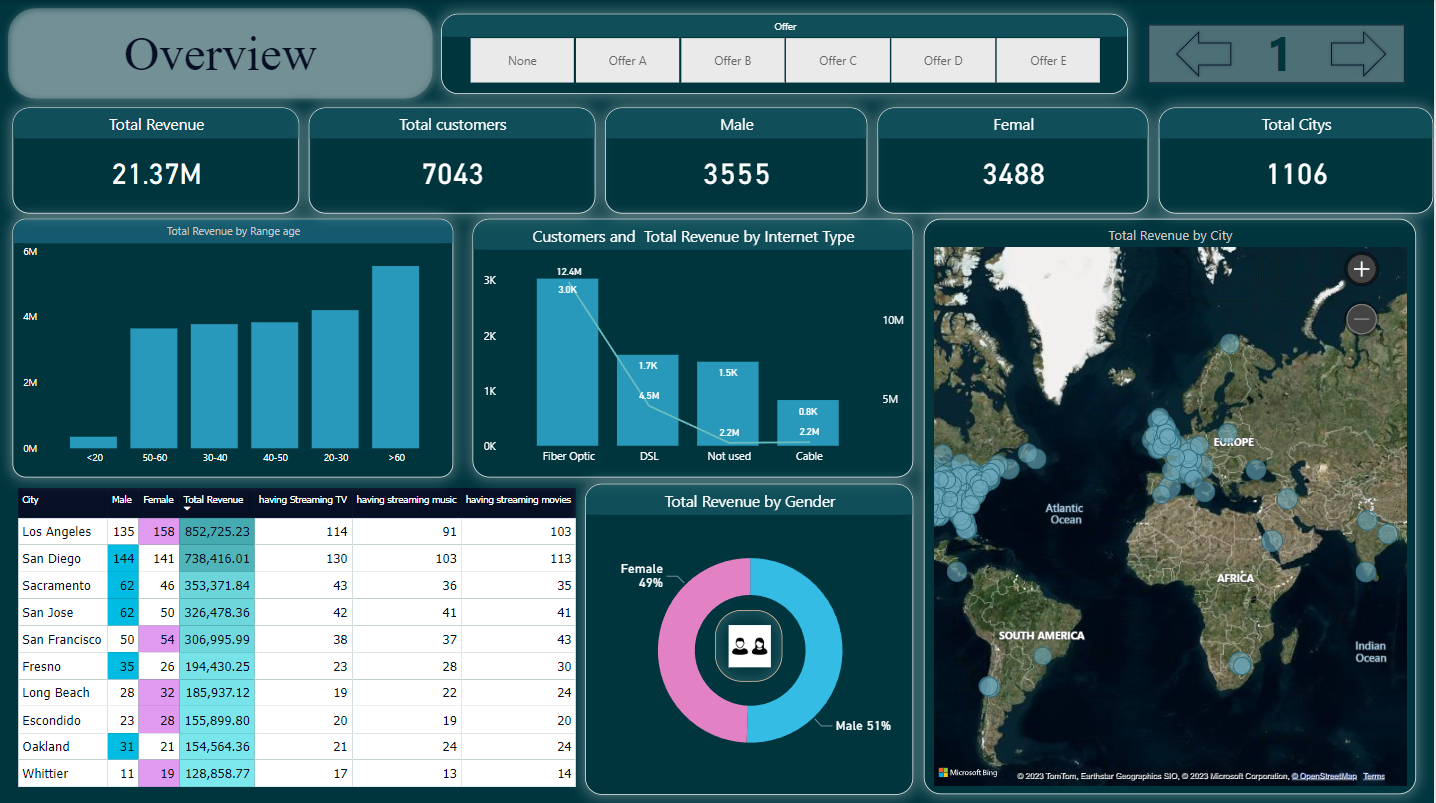

What the dashboard file says about the page in this screenshot:
{"tool":"powerbi","page":{"name":"Overview","canvas":[1600,900],"ordinal":1},"visuals":[{"type":"shape","box":[1269.9,15.4,310.1,89.4],"z":0},{"type":"textbox","box":[1379.2,16.6,103.1,95.9],"z":1000},{"type":"shape","box":[1482.3,31.2,69.7,59.6],"z":2000},{"type":"shape","box":[1309.4,31.2,69.7,59.6],"z":3000},{"type":"shape","box":[0,0,492.4,119.1],"z":4000},{"type":"tableEx","fields":{"Values":["customer_churn.City","Measure.Male","Measure.Female","Measure.Total Revenue","Measure.having Streaming TV","Measure.having streaming music","Measure.having streaming movies"]},"box":[13.7,539.7,638.6,347.5],"z":8001},{"type":"columnChart","title":"Total Revenue by Range age","fields":{"Category":["customer_churn.Range ave"],"Y":["Sum(customer_churn.Total Revenue)"]},"box":[13.7,244.5,491.7,288.4],"z":8002},{"type":"map","title":"Total Revenue by City","fields":{"Category":["customer_churn.City"],"Size":["Measure.Total Revenue"]},"box":[1031.4,244.5,549.4,642.7],"z":8003},{"type":"donutChart","title":"Total Revenue by Gender","fields":{"Category":["customer_churn.Gender"],"Y":["Sum(customer_churn.Total Revenue)"]},"box":[652.4,539.7,366.7,347.5],"z":8004},{"type":"lineClusteredColumnComboChart","title":"Customers and  Total Revenue by Internet Type","fields":{"Category":["customer_churn.Internet Type"],"Y":["Count(customer_churn.Customer ID)"],"Y2":["Sum(customer_churn.Total Revenue)"]},"box":[527.4,244.5,491.7,288.4],"z":8005},{"type":"image","box":[797.9,681.2,75.5,79.7],"z":8006},{"type":"card","title":"Total Revenue","fields":{"Values":["Measure.Total Revenue"]},"box":[13.7,119.5,320,118.1],"z":8007},{"type":"card","title":"Total customers","fields":{"Values":["Count(customer_churn.Customer ID)"]},"box":[344.7,119.5,320,118.1],"z":8008},{"type":"card","title":"Male","fields":{"Values":["Measure.Male"]},"box":[675.7,119.5,292.5,118.1],"z":8009},{"type":"card","title":"Femal","fields":{"Values":["Measure.Female"]},"box":[979.2,119.5,302.1,118.1],"z":8010},{"type":"card","title":"Total Citys","fields":{"Values":["Count(customer_churn.City)"]},"box":[1293.7,119.5,306.3,118.1],"z":8011},{"type":"slicer","title":"Offer","fields":{"Values":["customer_churn.Offer"]},"box":[493,15.1,766.4,89.3],"z":8012}]}

Visuals, with their boxes in screenshot pixels (x1, y1, x2, y2), scaled from the page's 1600x900 canvas onto the 1436x803 screenshot:
shape: region(1140, 14, 1418, 94)
textbox: region(1238, 15, 1330, 100)
shape: region(1330, 28, 1393, 81)
shape: region(1175, 28, 1238, 81)
shape: region(0, 0, 442, 106)
tableEx - customer_churn.City x Measure.Male: region(12, 482, 585, 792)
"Total Revenue by Range age" columnChart: region(12, 218, 454, 475)
"Total Revenue by City" map: region(926, 218, 1419, 792)
"Total Revenue by Gender" donutChart: region(586, 482, 915, 792)
"Customers and  Total Revenue by Internet Type" lineClusteredColumnComboChart: region(473, 218, 915, 475)
image: region(716, 608, 784, 679)
"Total Revenue" card: region(12, 107, 299, 212)
"Total customers" card: region(309, 107, 597, 212)
"Male" card: region(606, 107, 869, 212)
"Femal" card: region(879, 107, 1150, 212)
"Total Citys" card: region(1161, 107, 1435, 212)
"Offer" slicer: region(442, 13, 1130, 93)
